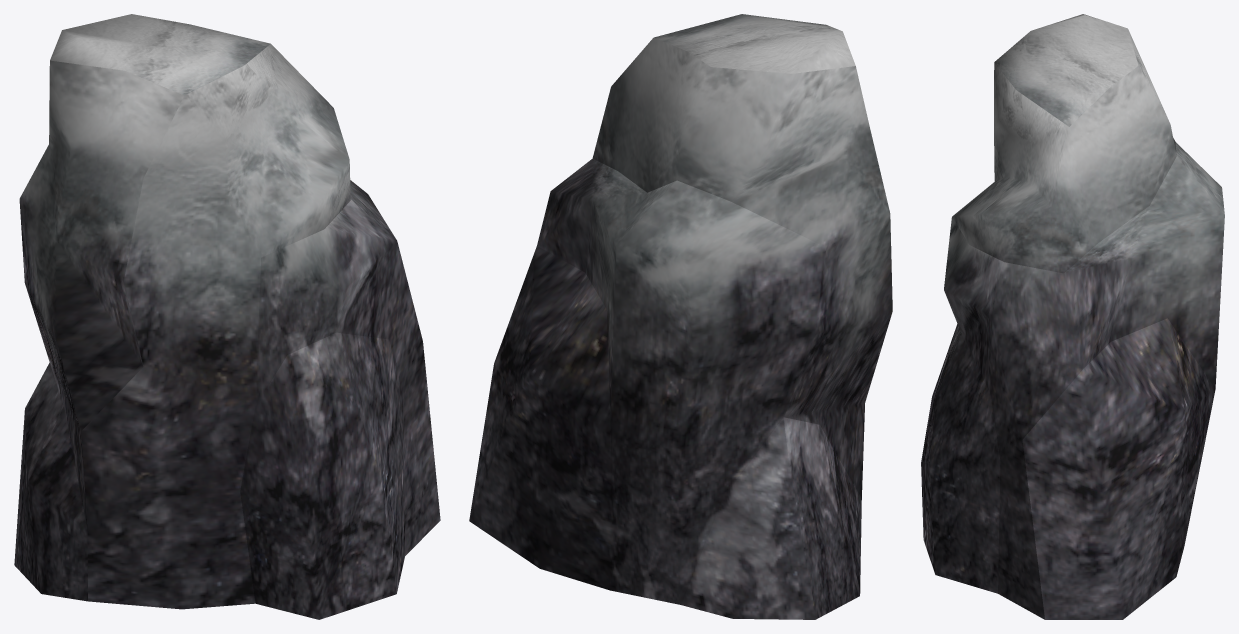
File: snow_d_a03d.fbx
3 renders of one model, left to right at view 1: azimuth 30°, elevation 25°; view 2: azimuth 150°, elevation 25°; view 3: azimuth 270°, elevation 25°, orthographic. The views are drawn at different scales.
Parts seen in each view (by area): view 1: d_a03d; view 2: d_a03d; view 3: d_a03d.
Part boxes in pixels (<box>): d_a03d: <box>14,14,440,619</box>; d_a03d: <box>469,14,892,619</box>; d_a03d: <box>921,14,1224,619</box>.
Bounding box in the file's own units: 435 × 593 × 351.
